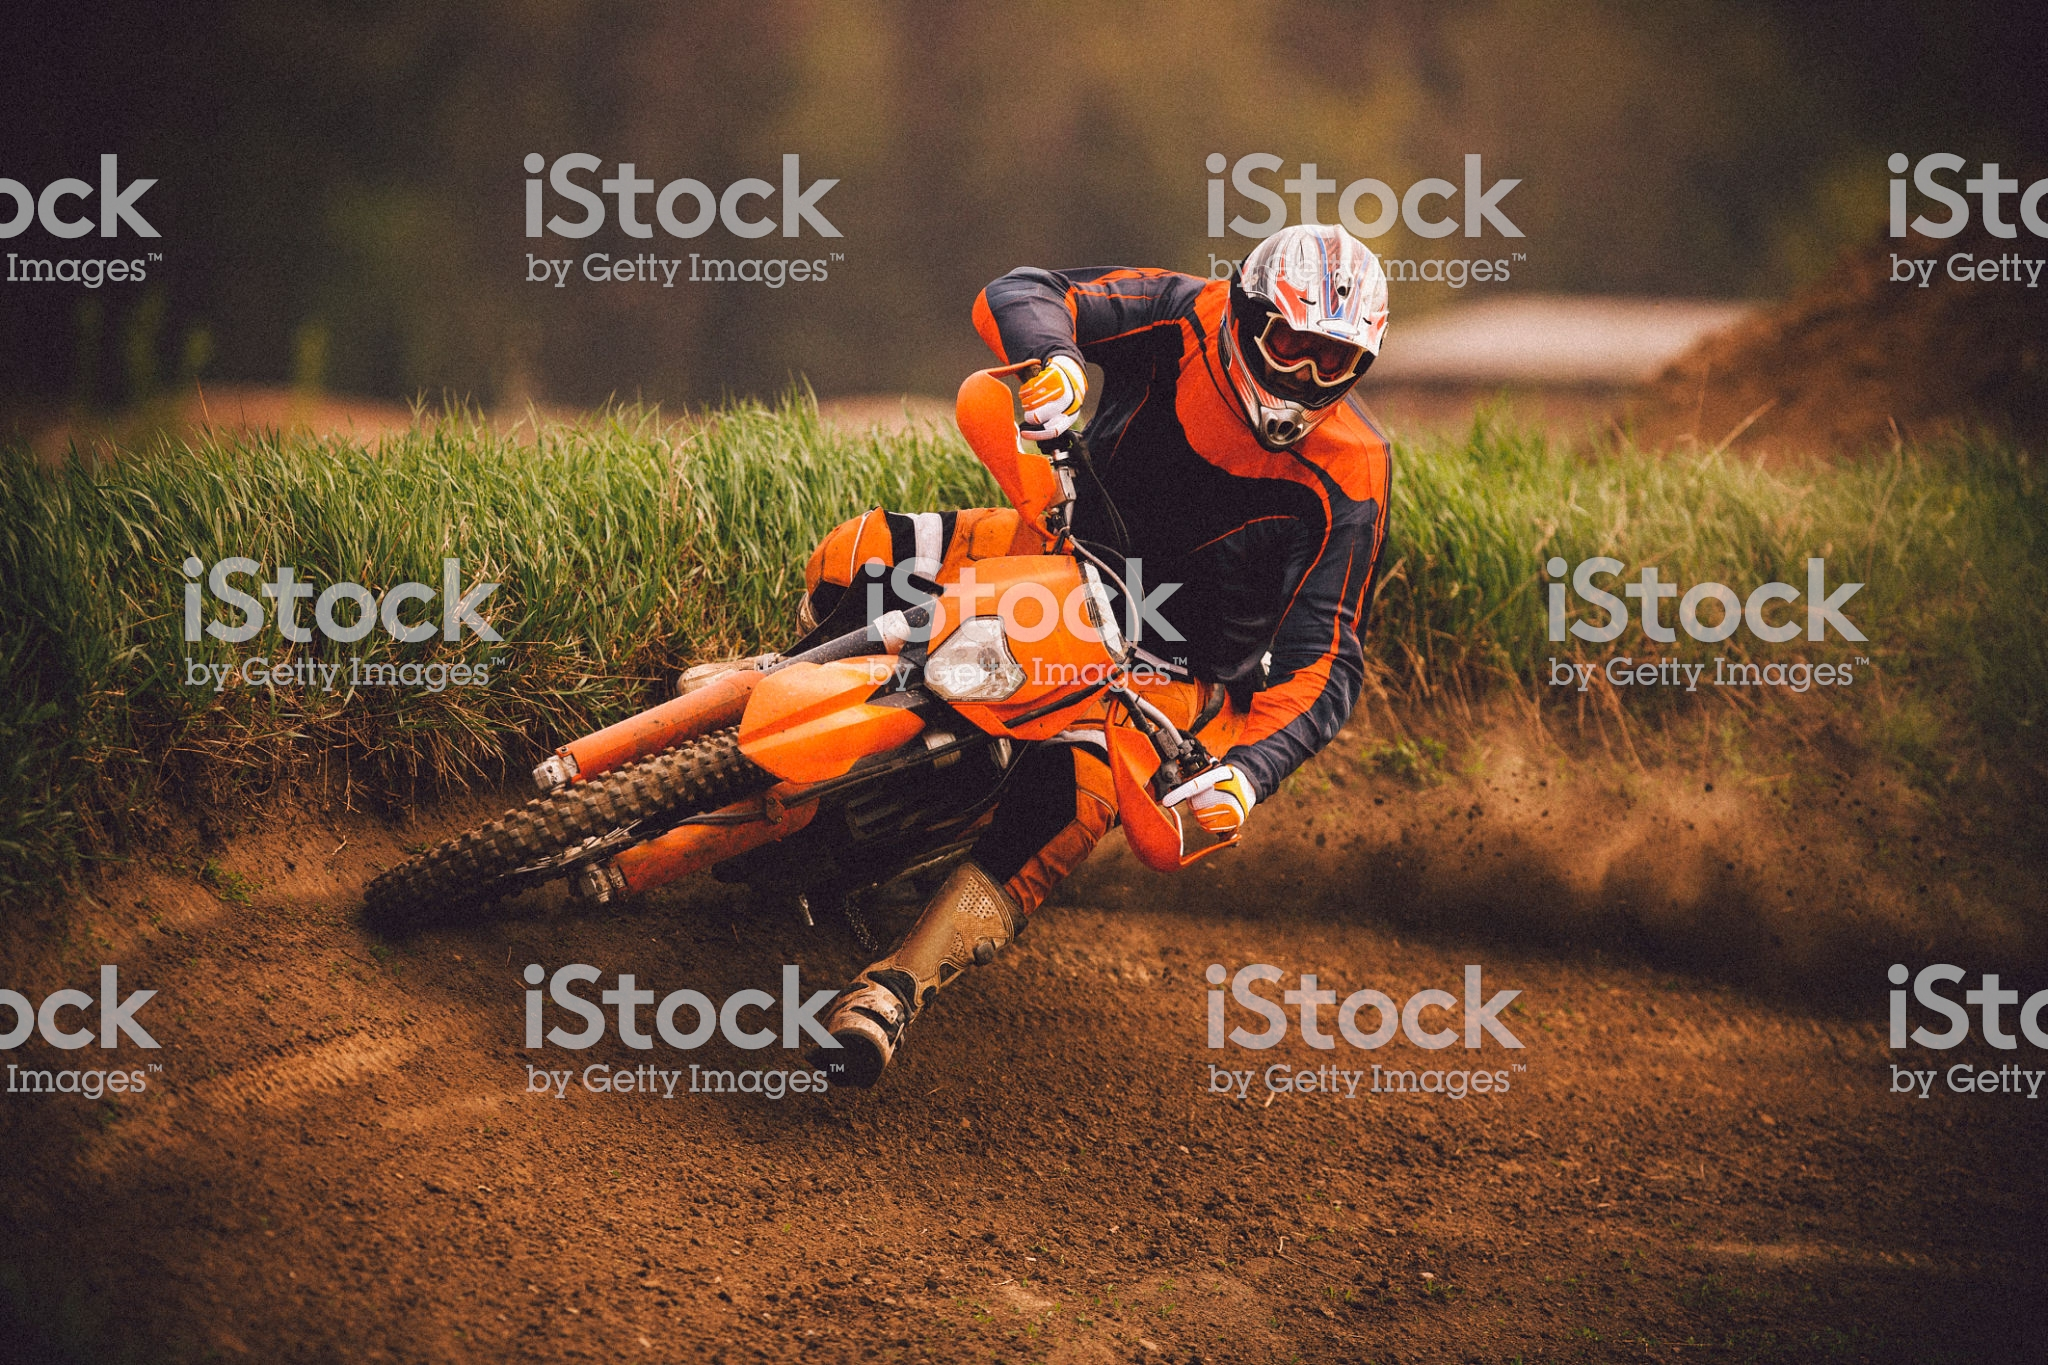helmet: (1220, 233, 1404, 442)
